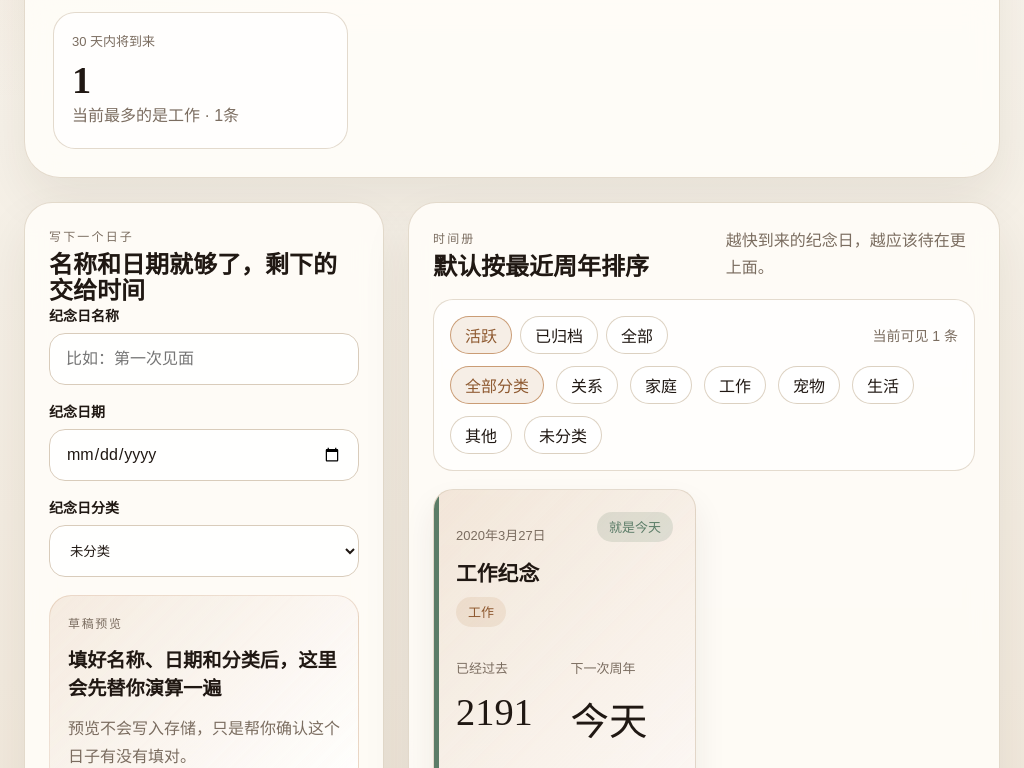
Test case: AnniversaryList › 筛选无结果时展示专用空态
The width and height of the screenshot is (1024, 768).
(page scrolled)
Click the button "宠物" at [809, 385], box [778,366,840,404]
(page scrolled)
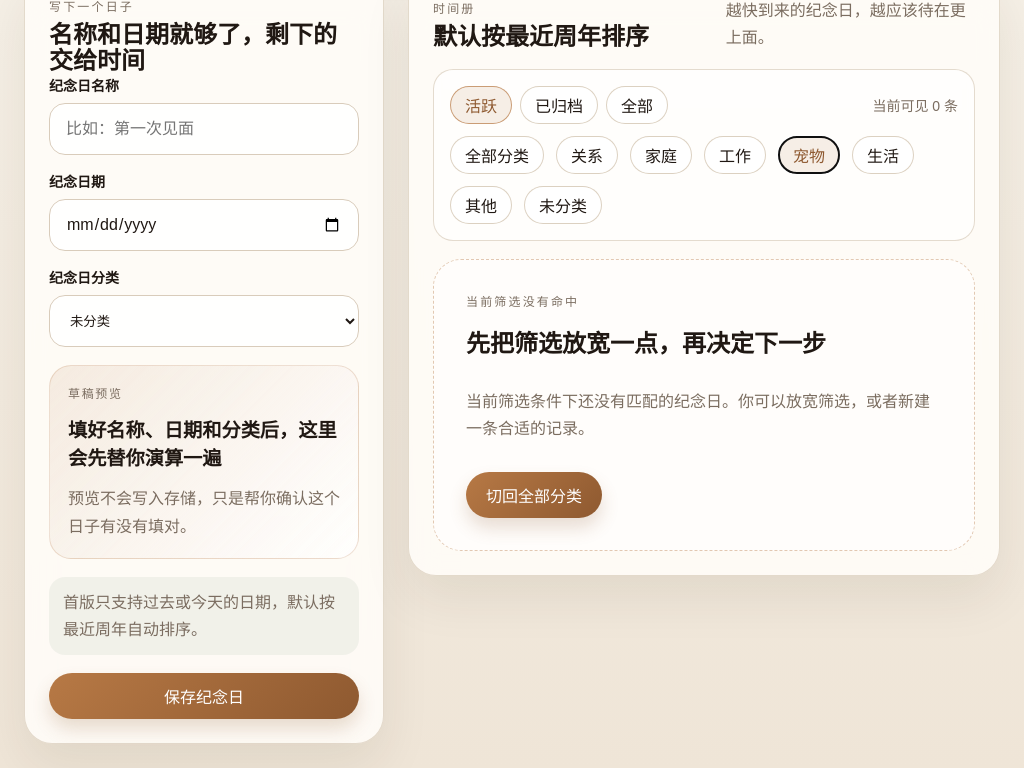
Result: the text "当前筛选没有命中" is shown at [466,292,579,309]
Result: the button "切回全部分类" is shown at [466,472,602,518]
